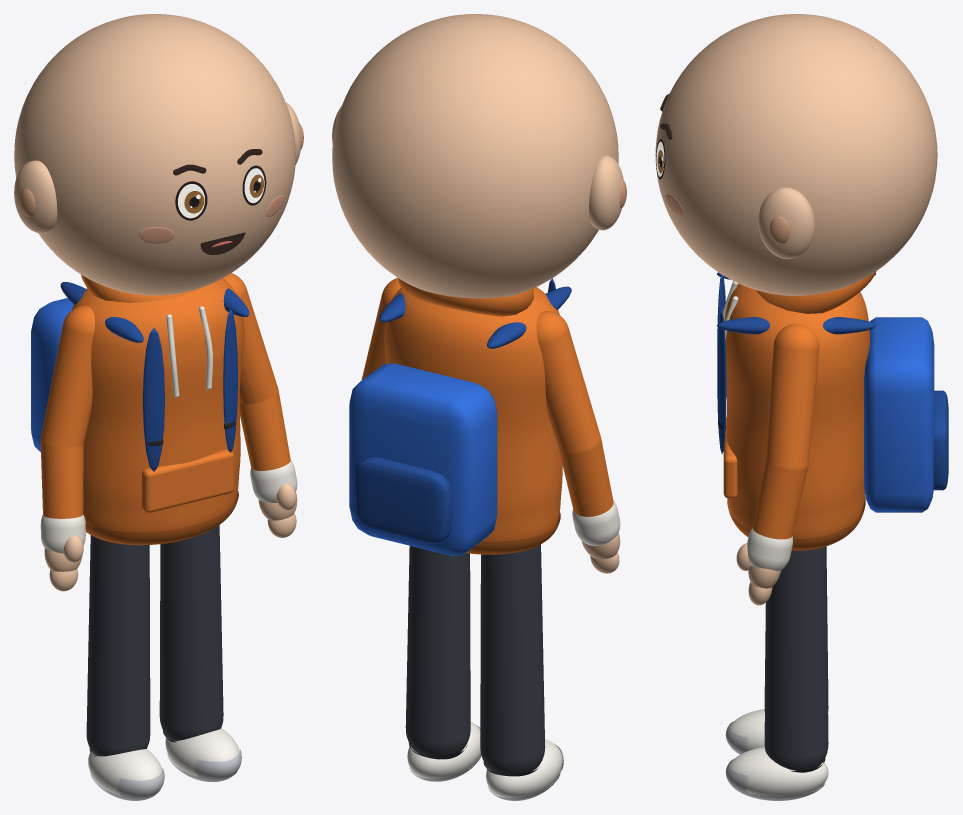
Rendered from hoofdpersonage_rugzak.glb.
3 renders of one model, left to right at view 1: azimuth 30°, elevation 25°; view 2: azimuth 150°, elevation 25°; view 3: azimuth 270°, elevation 25°, orthographic.
Visible parts, largest first — view 1: hoofdpersonage_rugzak_hoofd, hoofdpersonage_rugzak_romp, hoofdpersonage_rugzak_been_R, hoofdpersonage_rugzak_been_L, hoofdpersonage_rugzak_bovenarm_R, hoofdpersonage_rugzak_buidelzak, hoofdpersonage_rugzak_rugzak, hoofdpersonage_rugzak_onderarm_R, hoofdpersonage_rugzak_onderarm_L, hoofdpersonage_rugzak_bovenarm_L, hoofdpersonage_rugzak_rugzak_band_R, hoofdpersonage_rugzak_oor_R (+12 smaller); view 2: hoofdpersonage_rugzak_hoofd, hoofdpersonage_rugzak_romp, hoofdpersonage_rugzak_rugzak, hoofdpersonage_rugzak_been_R, hoofdpersonage_rugzak_been_L, hoofdpersonage_rugzak_rugzak_vak, hoofdpersonage_rugzak_bovenarm_R, hoofdpersonage_rugzak_onderarm_R, hoofdpersonage_rugzak_oor_R, hoofdpersonage_rugzak_capuchon, hoofdpersonage_rugzak_schoen_R, hoofdpersonage_rugzak_schoen_L (+5 smaller); view 3: hoofdpersonage_rugzak_hoofd, hoofdpersonage_rugzak_romp, hoofdpersonage_rugzak_rugzak, hoofdpersonage_rugzak_been_L, hoofdpersonage_rugzak_bovenarm_L, hoofdpersonage_rugzak_onderarm_L, hoofdpersonage_rugzak_schoen_L, hoofdpersonage_rugzak_oor_L, hoofdpersonage_rugzak_capuchon, hoofdpersonage_rugzak_rugzak_vak, hoofdpersonage_rugzak_rugzak_schouder_L, hoofdpersonage_rugzak_manchet_L (+5 smaller).
Part boxes in pixels (box(x1,y1,x2,y2)): hoofdpersonage_rugzak_hoofd: box(14, 14, 295, 295); hoofdpersonage_rugzak_romp: box(72, 278, 244, 532); hoofdpersonage_rugzak_been_R: box(86, 535, 150, 756); hoofdpersonage_rugzak_been_L: box(159, 525, 223, 740); hoofdpersonage_rugzak_bovenarm_R: box(41, 305, 94, 447); hoofdpersonage_rugzak_buidelzak: box(141, 449, 233, 512); hoofdpersonage_rugzak_rugzak: box(31, 298, 73, 452); hoofdpersonage_rugzak_onderarm_R: box(40, 442, 83, 518); hoofdpersonage_rugzak_onderarm_L: box(239, 391, 290, 470); hoofdpersonage_rugzak_bovenarm_L: box(223, 273, 277, 404); hoofdpersonage_rugzak_rugzak_band_R: box(143, 328, 164, 471); hoofdpersonage_rugzak_oor_R: box(14, 160, 57, 233); hoofdpersonage_rugzak_hoofd: box(332, 14, 618, 298); hoofdpersonage_rugzak_romp: box(384, 287, 562, 541); hoofdpersonage_rugzak_rugzak: box(349, 363, 497, 555); hoofdpersonage_rugzak_been_R: box(480, 544, 545, 774); hoofdpersonage_rugzak_been_L: box(405, 546, 470, 756); hoofdpersonage_rugzak_rugzak_vak: box(355, 457, 451, 543); hoofdpersonage_rugzak_bovenarm_R: box(536, 311, 600, 455); hoofdpersonage_rugzak_onderarm_R: box(559, 438, 613, 516); hoofdpersonage_rugzak_oor_R: box(589, 155, 623, 230); hoofdpersonage_rugzak_capuchon: box(398, 278, 533, 316); hoofdpersonage_rugzak_schoen_R: box(486, 739, 562, 798); hoofdpersonage_rugzak_schoen_L: box(407, 722, 480, 779); hoofdpersonage_rugzak_hoofd: box(655, 14, 937, 295); hoofdpersonage_rugzak_romp: box(724, 283, 869, 538); hoofdpersonage_rugzak_rugzak: box(864, 317, 934, 512); hoofdpersonage_rugzak_been_L: box(764, 546, 828, 770); hoofdpersonage_rugzak_bovenarm_L: box(765, 323, 819, 471); hoofdpersonage_rugzak_onderarm_L: box(753, 461, 807, 539); hoofdpersonage_rugzak_schoen_L: box(728, 747, 828, 796); hoofdpersonage_rugzak_oor_L: box(758, 187, 814, 259); hoofdpersonage_rugzak_capuchon: box(756, 271, 876, 313); hoofdpersonage_rugzak_rugzak_vak: box(933, 390, 948, 490); hoofdpersonage_rugzak_rugzak_schouder_L: box(716, 317, 876, 334); hoofdpersonage_rugzak_manchet_L: box(747, 527, 792, 570).
Bounding box in the file's own units: 0.6887 × 1.76 × 0.6232.
